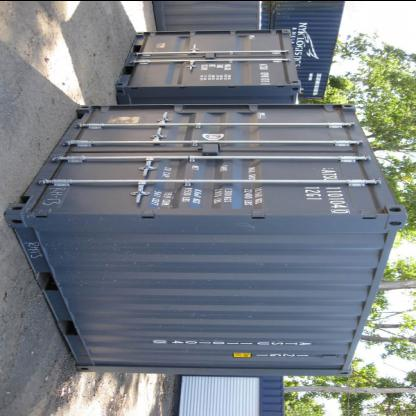Damage: (22, 185, 71, 219), (22, 236, 50, 262), (235, 221, 262, 230)
